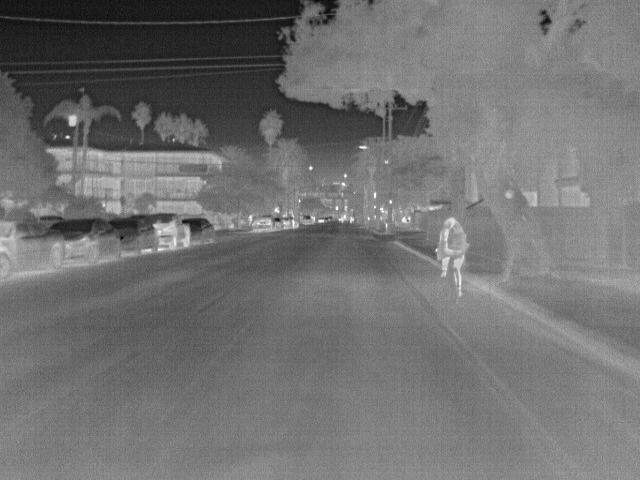car: (1, 218, 65, 280), (49, 220, 125, 260), (113, 215, 159, 254), (147, 212, 189, 251), (182, 218, 217, 241), (249, 214, 275, 234), (281, 214, 294, 228), (271, 218, 283, 232), (300, 214, 315, 225)
person: (435, 215, 466, 289)
